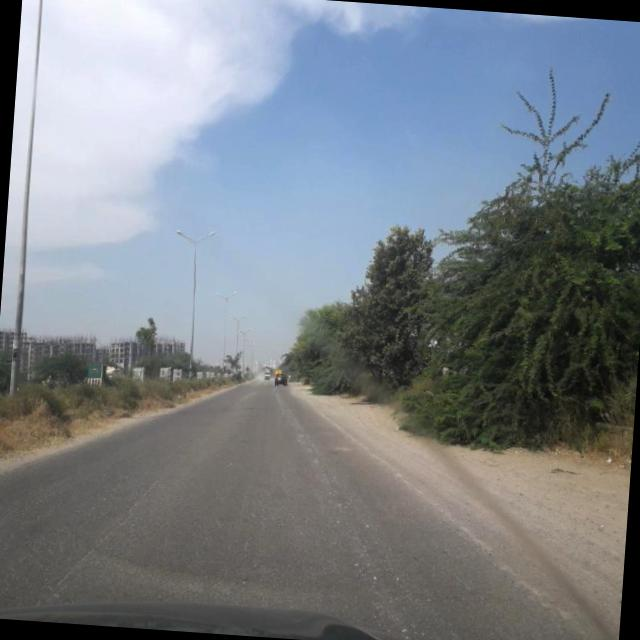pothole: (55, 459, 168, 588)
